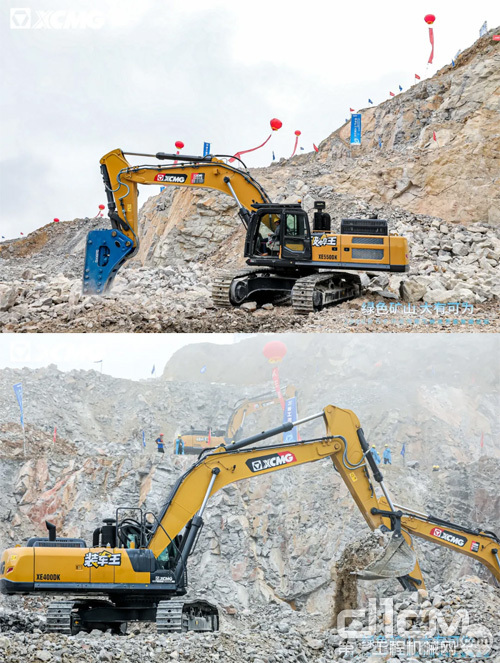excavator: (1, 410, 412, 637), (80, 138, 412, 329)
